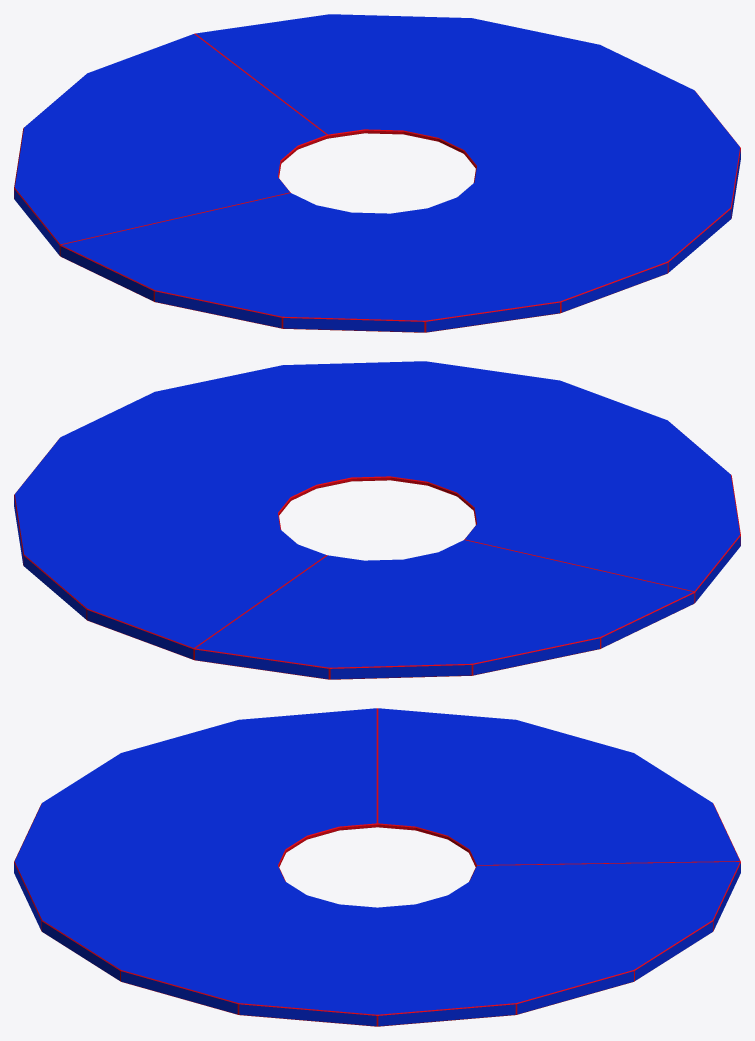
Rendered from L2_Tube_Entry.fbx.
3 views of the same model, one above another, from view 1: azimuth 30°, elevation 25°; view 2: azimuth 150°, elevation 25°; view 3: azimuth 270°, elevation 25° (orthographic).
Visible parts, largest first — view 1: L2_Tube_Entry; view 2: L2_Tube_Entry; view 3: L2_Tube_Entry.
Boxes of the visible parts, x1=… form: L2_Tube_Entry: x1=14, y1=14, x2=740, y2=332; L2_Tube_Entry: x1=14, y1=361, x2=740, y2=679; L2_Tube_Entry: x1=14, y1=708, x2=740, y2=1026.
Size of the model in its own units: 4118 by 74.9 by 4118.
